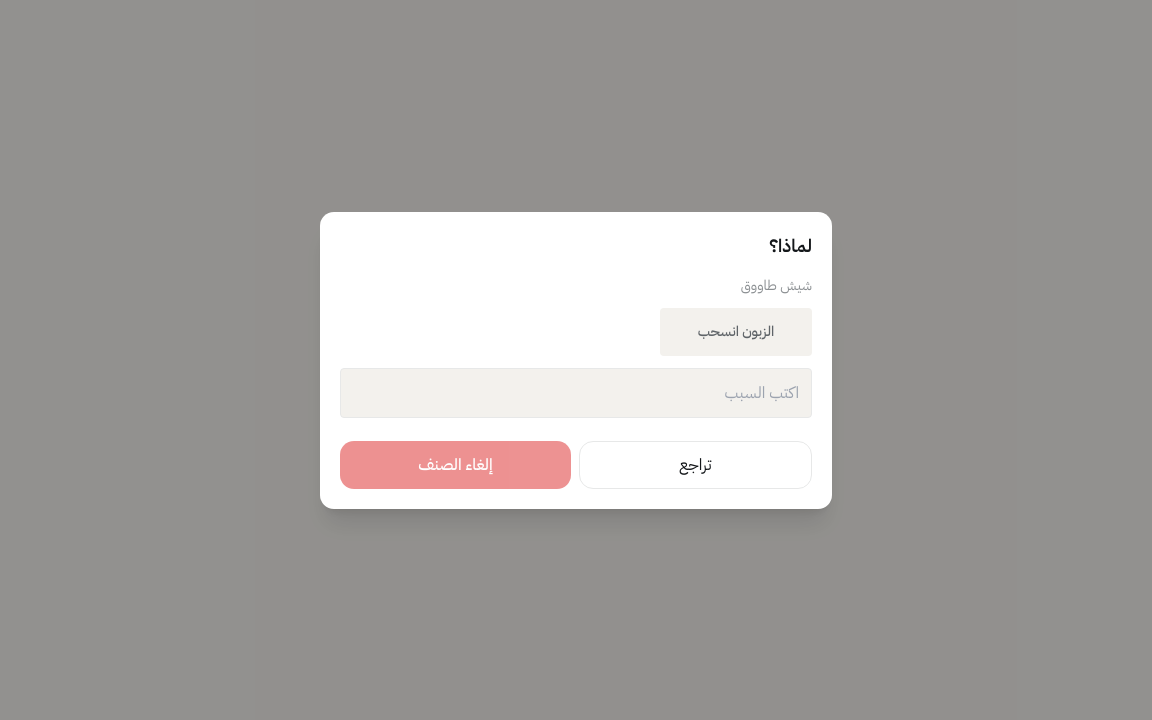
Test: asking why › a tap answers the question, and the confirm button comes alive
Expected: the button "إلغاء الصنف" is disabled, [340,440,571,488]
Click the button "الزبون انسحب". click: (736,332)
box: [660,308,812,356]
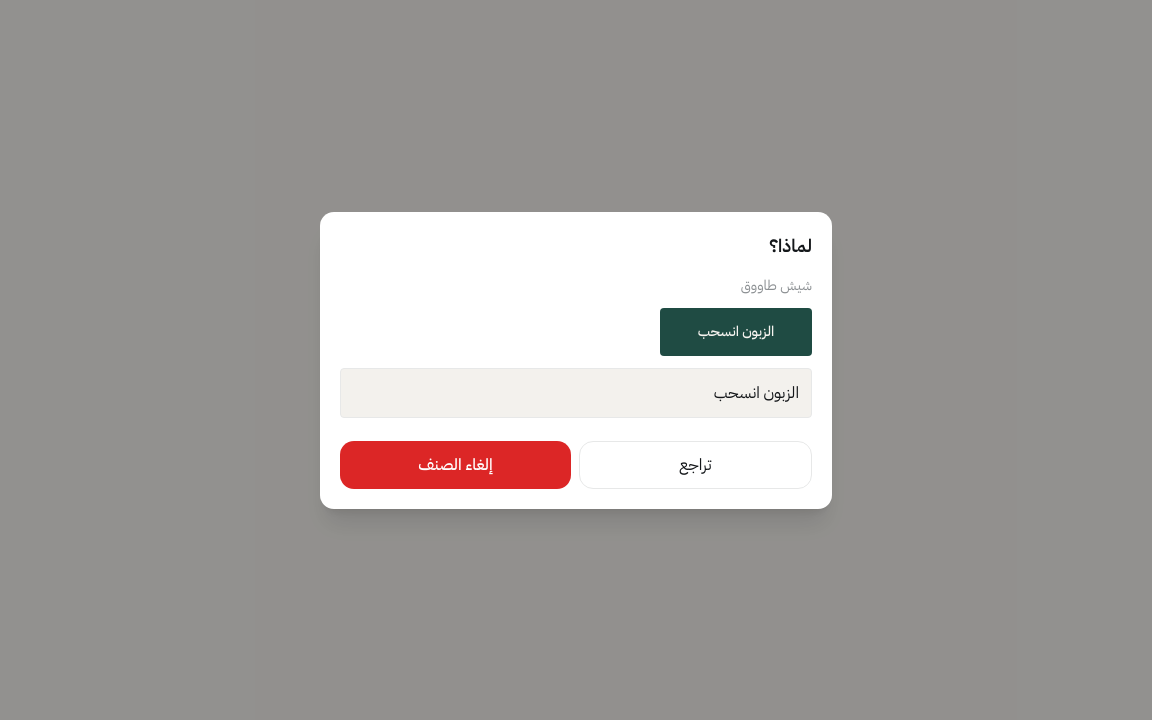
Expected: the text box holds "الزبون انسحب", [340,368,812,418]
Expected: the button "إلغاء الصنف" is enabled, [340,440,571,488]
